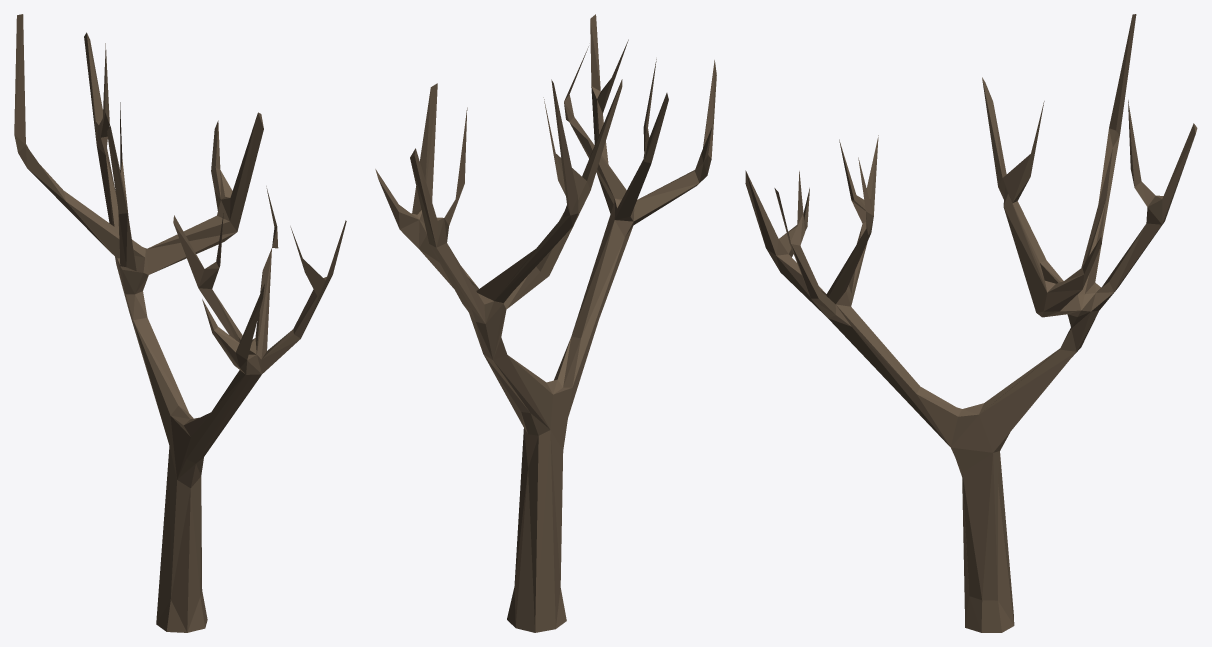
File: pine_desert_1.glb
3 renders of one model, left to right at view 1: azimuth 30°, elevation 25°; view 2: azimuth 150°, elevation 25°; view 3: azimuth 270°, elevation 25°, orthographic. The views are drawn at different scales.
Visible parts, largest first — view 1: lod0; view 2: lod0; view 3: lod0.
Boxes of the visible parts, <box> form: lod0: <box>14,14,346,632</box>; lod0: <box>375,14,716,632</box>; lod0: <box>745,14,1197,632</box>.
Size of what is drawn, in the model's own units: 2.47 by 6.92 by 5.
